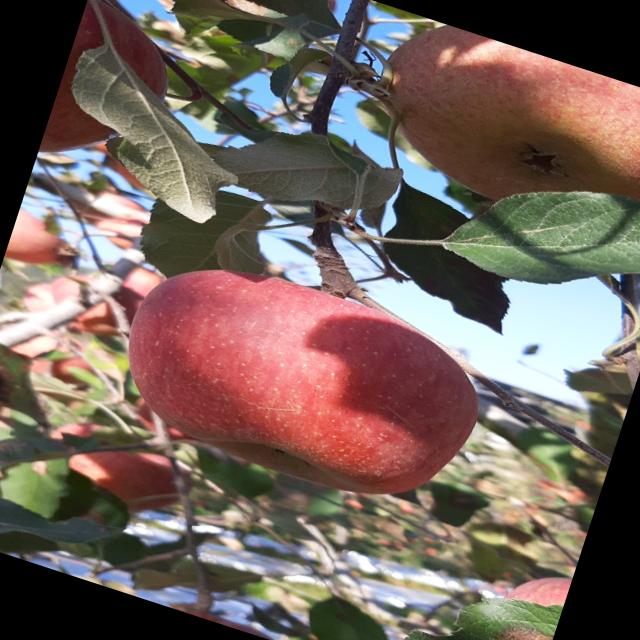fresh: (89, 227, 519, 537)
